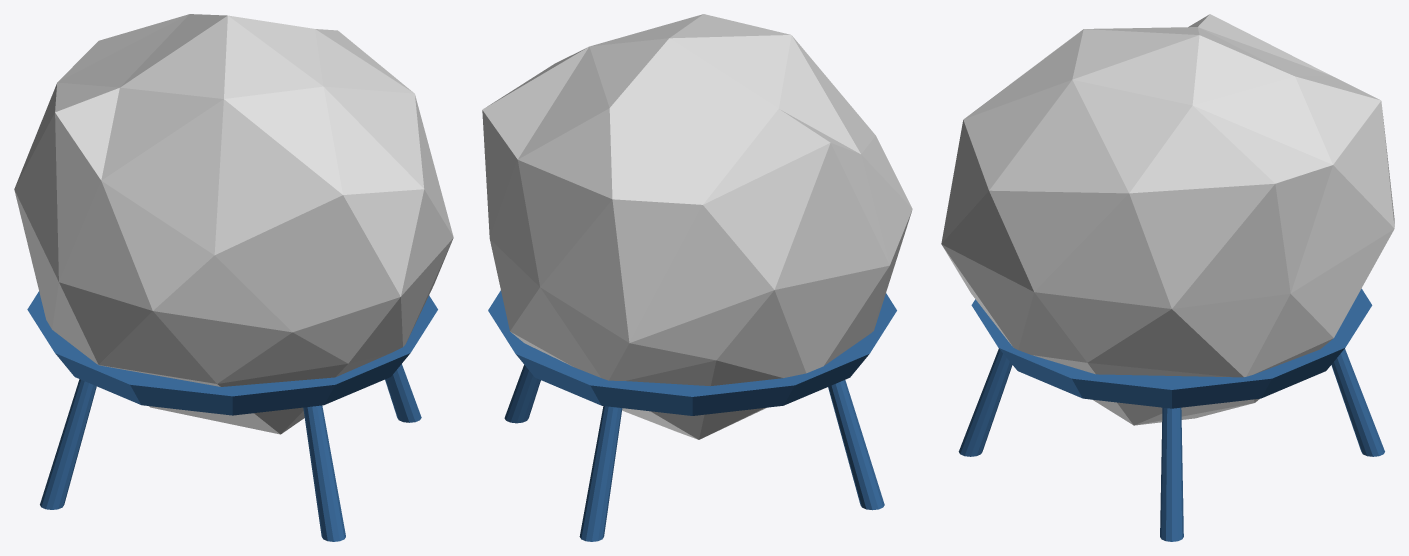
Rendered from ÂMBAR.fbx.
The picture shows the model from 3 angles, left to right: view 1: azimuth 30°, elevation 25°; view 2: azimuth 150°, elevation 25°; view 3: azimuth 270°, elevation 25°; orthographic projection. The views are drawn at different scales.
Visible parts, largest first — view 1: Cylinder.001, Cylinder.002; view 2: Cylinder.001, Cylinder.002; view 3: Cylinder.001, Cylinder.002.
Boxes of the visible parts, box(x1,y1,x2,y2) form: Cylinder.001: box(14, 14, 453, 434); Cylinder.002: box(27, 291, 437, 541); Cylinder.001: box(482, 14, 912, 439); Cylinder.002: box(488, 290, 896, 541); Cylinder.001: box(941, 14, 1394, 425); Cylinder.002: box(958, 288, 1384, 541).
Bounding box in the file's own units: 246 × 269 × 262.
